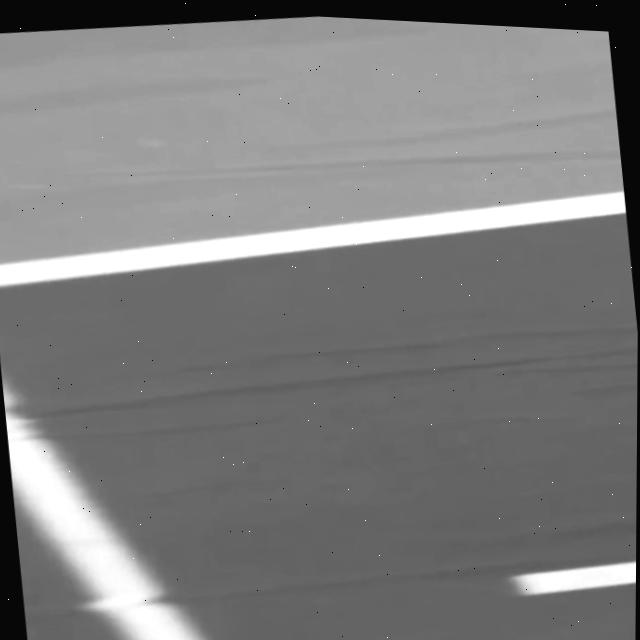center: (510, 560, 636, 594)
right: (0, 190, 626, 287)
